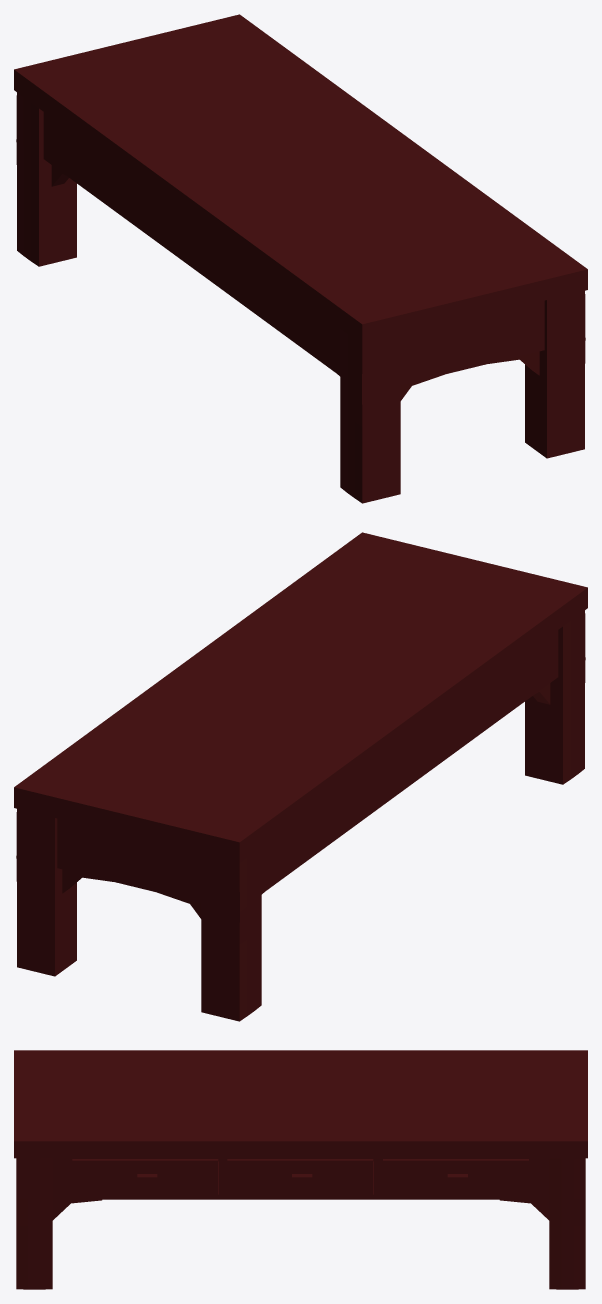
The model's file is woodTable.fbx.
3 views of the same model, one above another, from view 1: azimuth 30°, elevation 25°; view 2: azimuth 150°, elevation 25°; view 3: azimuth 270°, elevation 25° (orthographic). The views are drawn at different scales.
Visible parts, largest first — view 1: 2; view 2: 2; view 3: 2, 2.001, 2.003, 2.002.
Boxes of the visible parts, <box> form: 2: <box>14,14,587,503</box>; 2: <box>14,532,587,1021</box>; 2: <box>14,1050,587,1289</box>; 2.001: <box>227,1159,373,1195</box>; 2.003: <box>72,1159,218,1195</box>; 2.002: <box>383,1159,528,1195</box>.
Bounding box in the file's own units: 496 × 369 × 1291.
